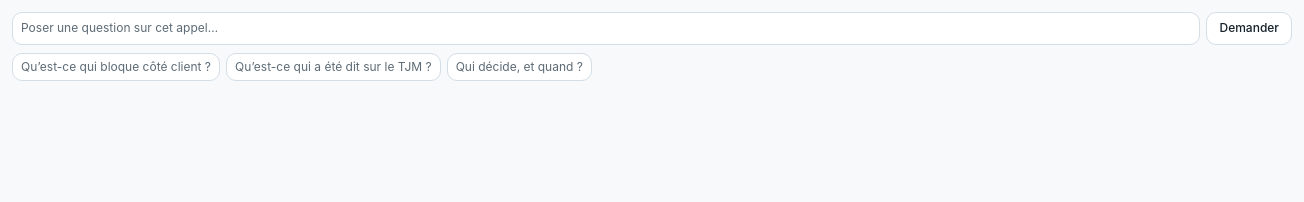
Scenario: an answer never arrives alone › a quote the app could not find is shown, marked, and not followable
In the field labelled "Poser une question sur cet appel": (606, 28) [12,12,1200,45], type "Quel TJM ?"
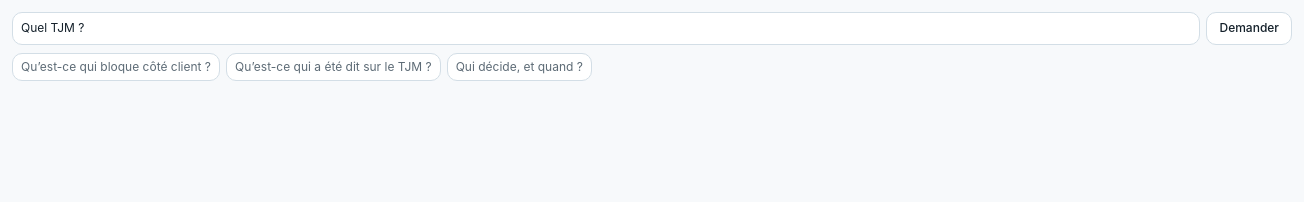
Click the button "Demander": (1249, 28) [1206,12,1292,45]
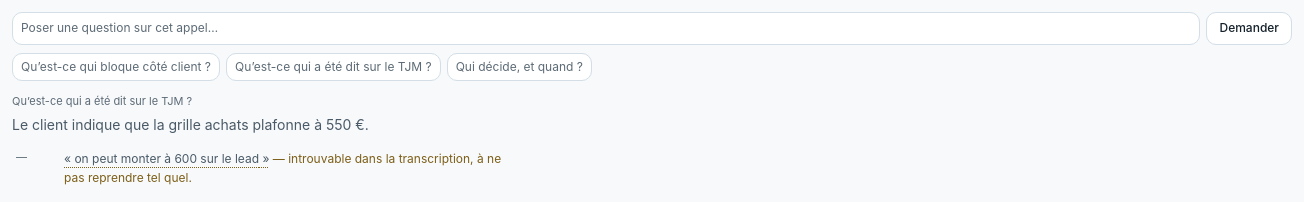
Expected: the text "—" is shown, [16,150,27,164]
Expected: the text "« on peut monter à 600 sur le lead »" is shown, [64,151,269,166]
Expected: the text "introuvable dans la transcription" is shown, [64,151,501,186]
